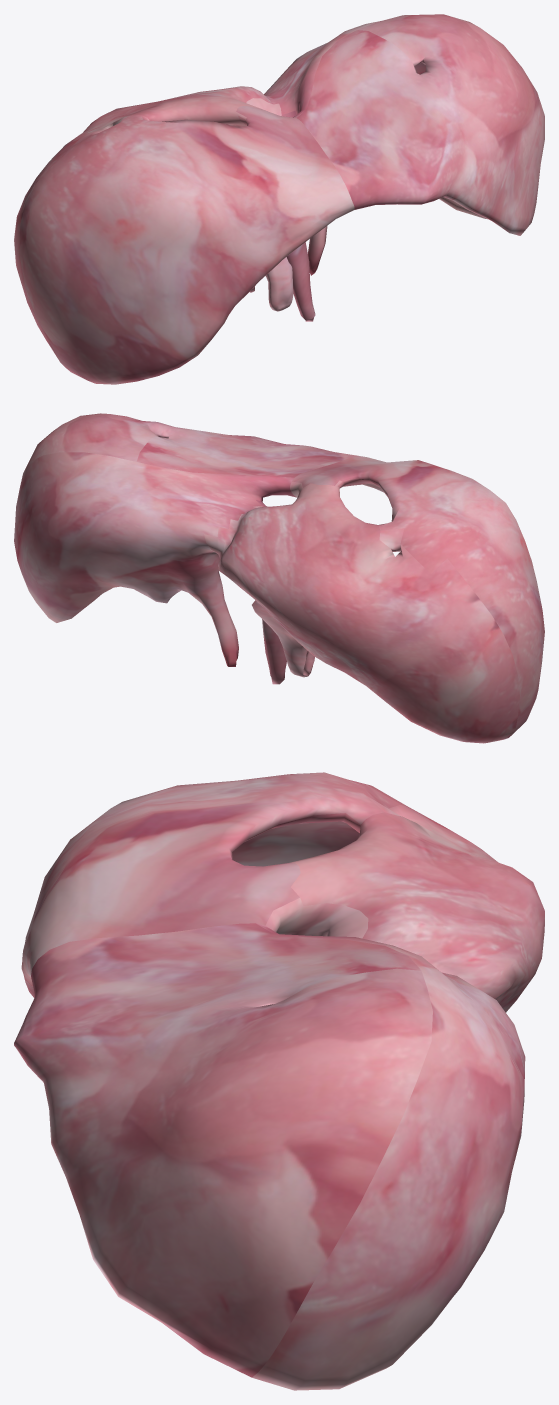
Rendered from diaphragm.glb.
3 renders of one model, top to bottom at view 1: azimuth 30°, elevation 25°; view 2: azimuth 150°, elevation 25°; view 3: azimuth 270°, elevation 25°, orthographic. The views are drawn at different scales.
Visible parts, largest first — view 1: model_6; view 2: model_6; view 3: model_6.
Part boxes in pixels (x1,y1,x2,y2): model_6: (14, 14, 544, 384); model_6: (14, 413, 544, 743); model_6: (14, 772, 544, 1390).
Bounding box in the file's own units: 24.17 × 11.32 × 13.15.
Materials: 1 (1 with a texture image).
